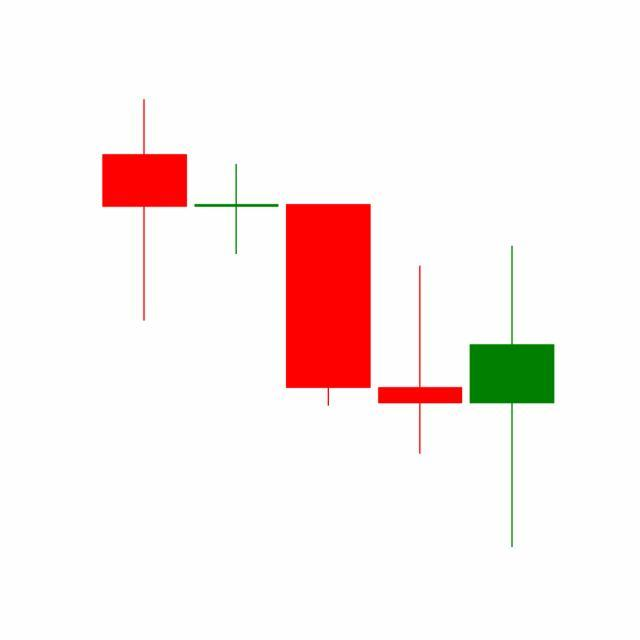Spinning Top: (374, 264, 468, 457)
